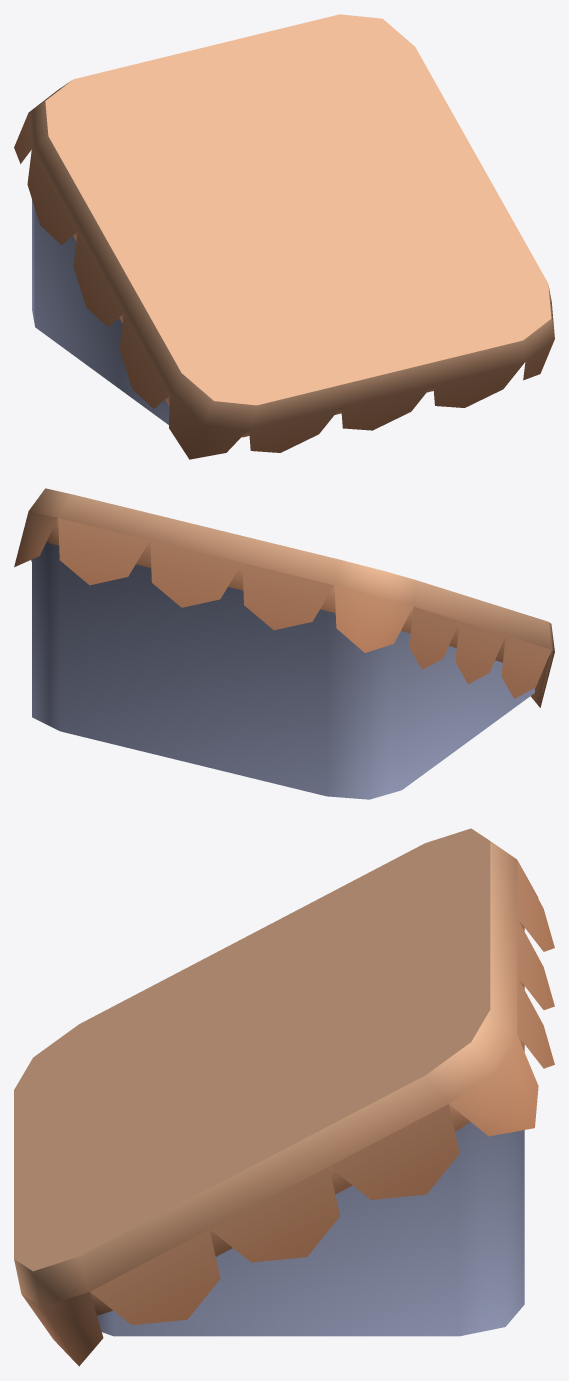
Rendered from block-grass-overhang-large-slope-steep.glb.
The picture shows the model from 3 angles, top to bottom: view 1: azimuth 30°, elevation 25°; view 2: azimuth 150°, elevation 25°; view 3: azimuth 270°, elevation 25°; orthographic projection. The views are drawn at different scales.
Parts seen in each view (by area): view 1: block-grass-overhang-large-slope-steep; view 2: block-grass-overhang-large-slope-steep; view 3: block-grass-overhang-large-slope-steep.
Part boxes in pixels (bbox=[...]): block-grass-overhang-large-slope-steep: bbox=[14, 14, 554, 459]; block-grass-overhang-large-slope-steep: bbox=[14, 488, 554, 799]; block-grass-overhang-large-slope-steep: bbox=[14, 828, 554, 1366].
Bounding box in the file's own units: 2.08 × 1.37 × 1.97.
